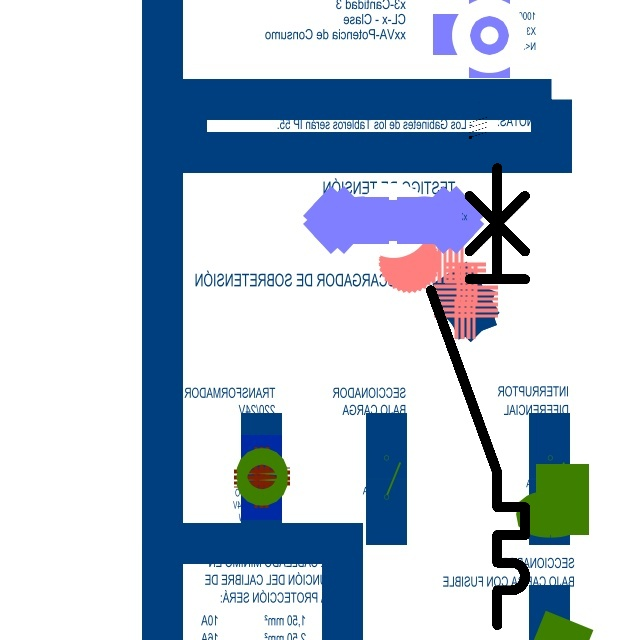interruptor_termomagnetico: (419, 156, 537, 637)
